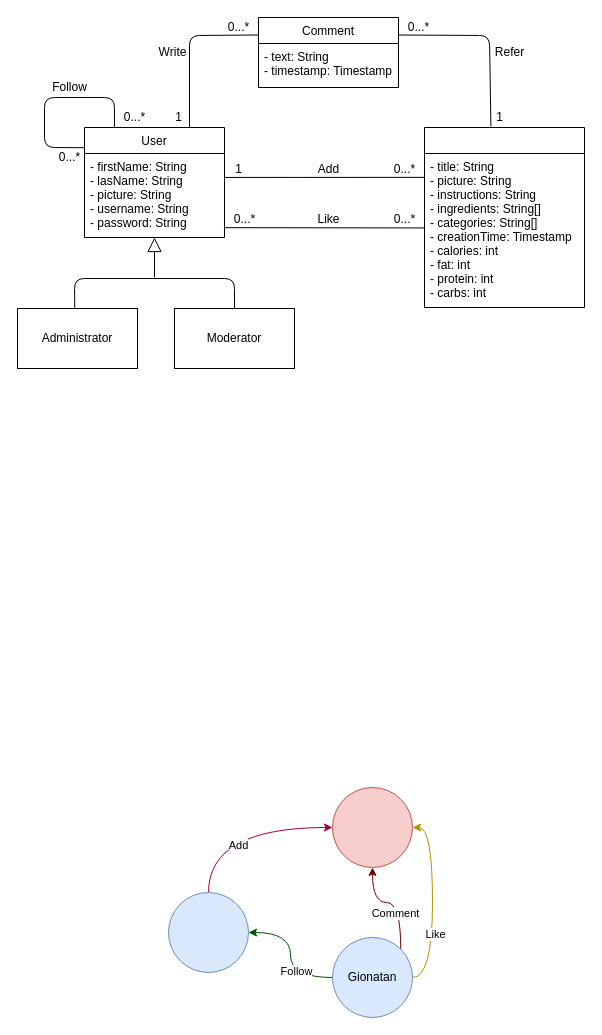
The diagram is 602 pixels wide and 1035 high, and some of its shapes have lost their labels. The shapes that lost their labels are listed below. From the top down, each one's box as (x1, y1, x2, y2) in pixels, then its label:
(424, 126, 584, 308): Recipe
(332, 786, 412, 868): Paella
(168, 892, 248, 972): Pietro
